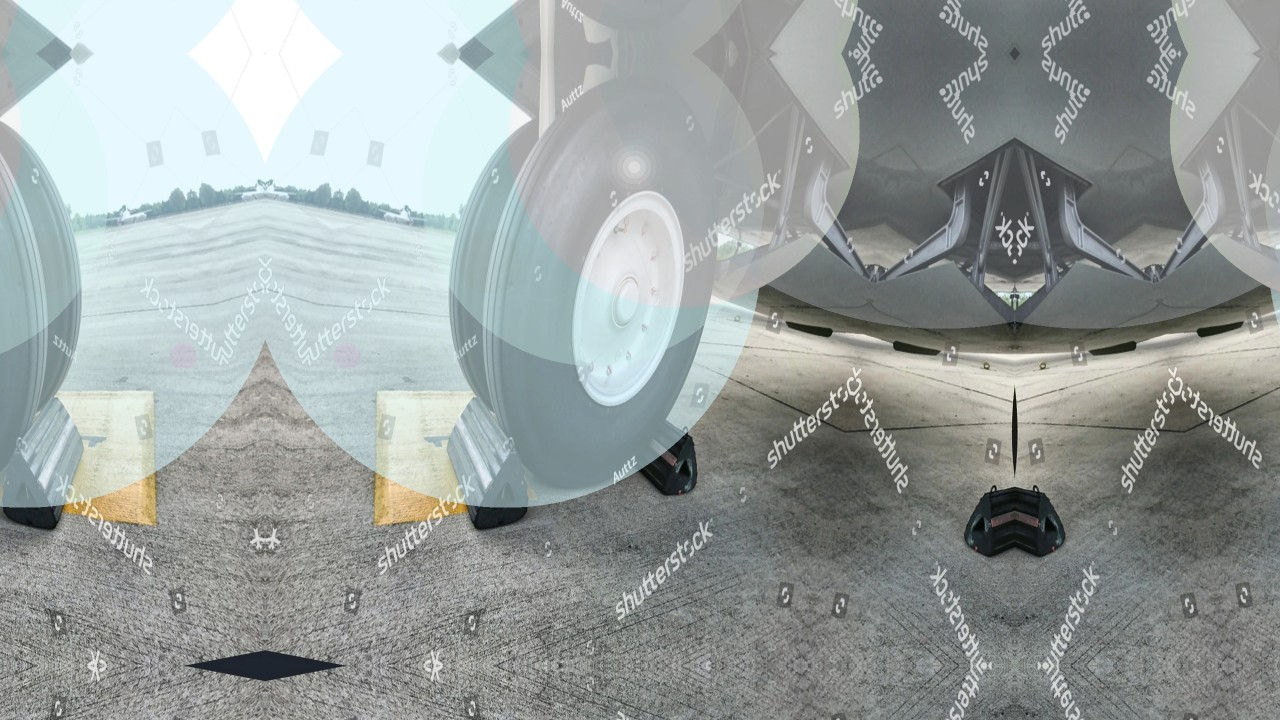chock: (432, 391, 546, 538), (0, 391, 98, 538), (626, 405, 710, 503), (960, 469, 1015, 567), (1015, 469, 1070, 567)
wheel: (460, 59, 738, 507), (424, 105, 552, 407), (0, 105, 106, 407), (0, 59, 70, 507), (460, 0, 738, 48)
